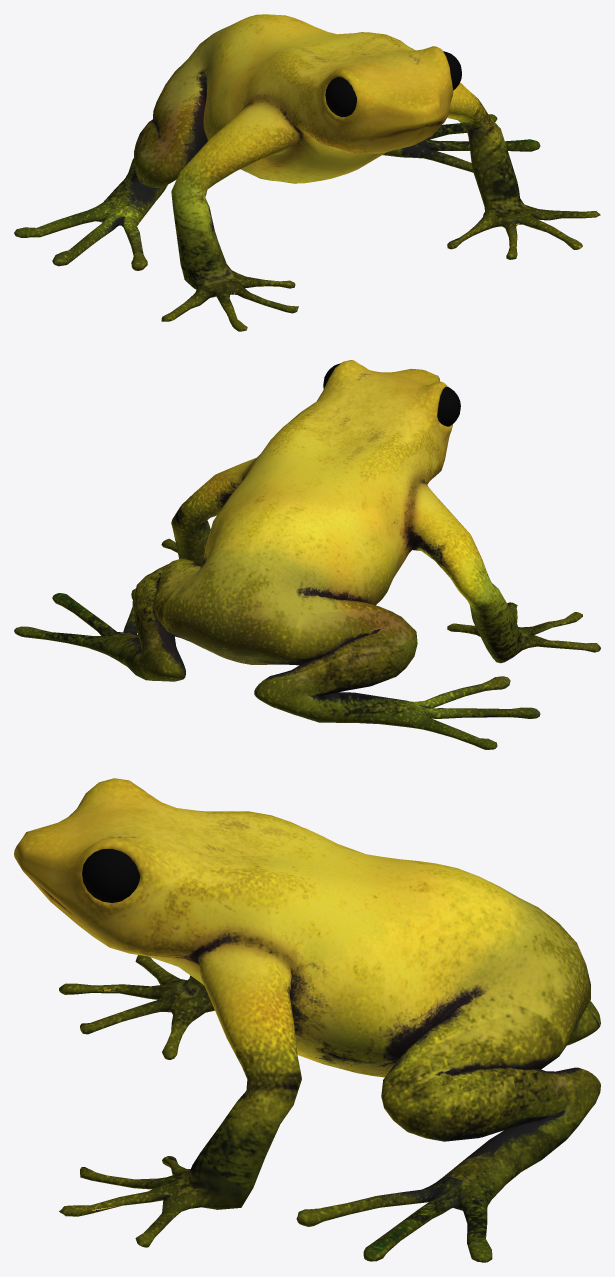
Rendered from frog.glb.
3 renders of one model, top to bottom at view 1: azimuth 30°, elevation 25°; view 2: azimuth 150°, elevation 25°; view 3: azimuth 270°, elevation 25°, orthographic. The views are drawn at different scales.
Visible parts, largest first — view 1: mesh_0; view 2: mesh_0; view 3: mesh_0.
Part boxes in pixels (x1,y1,x2,y2): mesh_0: [14, 14, 600, 331]; mesh_0: [14, 360, 600, 749]; mesh_0: [14, 778, 600, 1262].
Size of the model in its own units: 6.58 by 2.89 by 5.08.
Materials: 1 (1 with a texture image).
